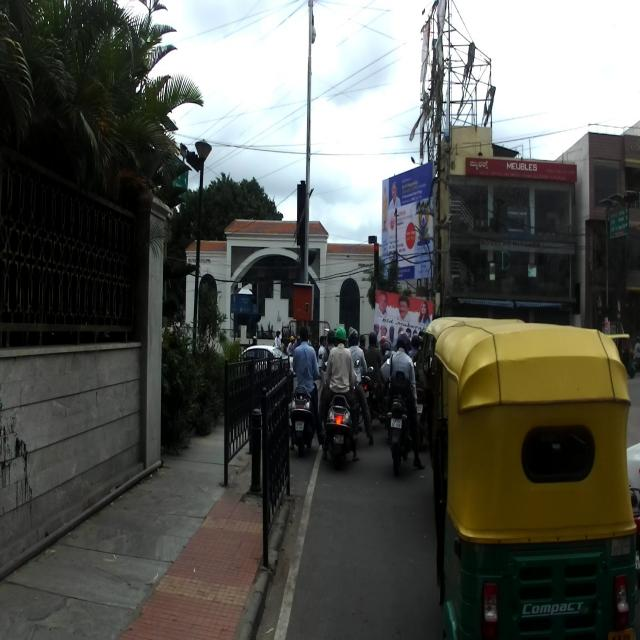autorickshaw: (422, 322, 640, 638), (418, 317, 526, 469)
motorcycle: (385, 357, 418, 478)
scooter: (321, 357, 361, 470), (290, 366, 323, 458)
